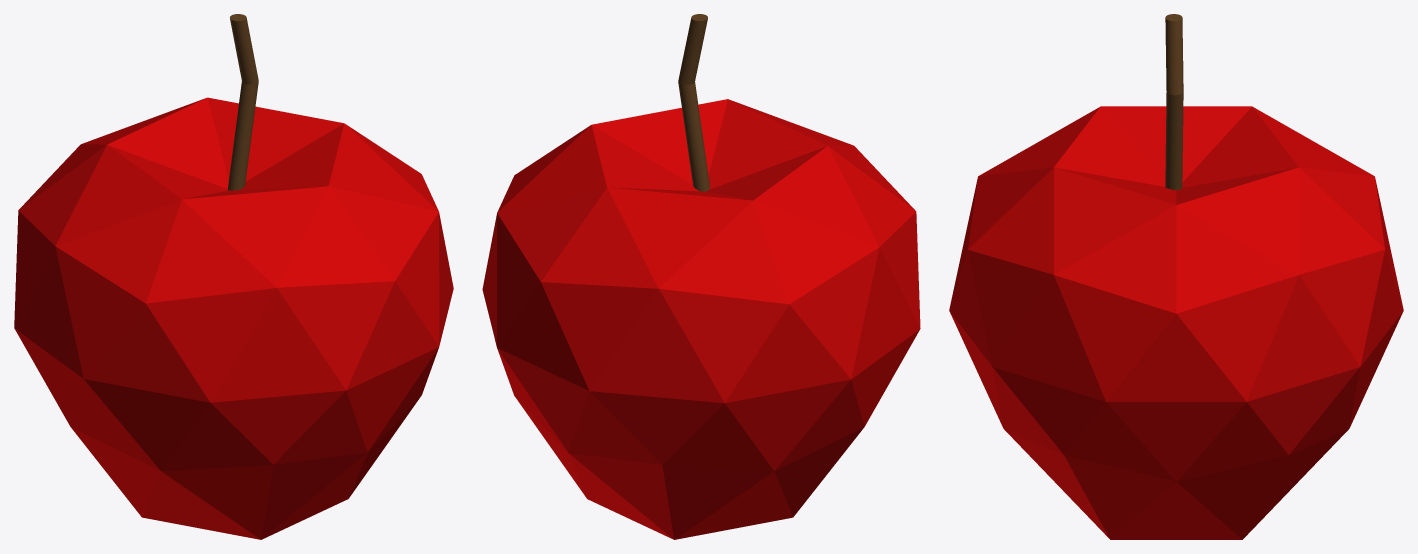
File: SM_Apple_01.fbx
The picture shows the model from 3 angles, left to right: view 1: azimuth 30°, elevation 25°; view 2: azimuth 150°, elevation 25°; view 3: azimuth 270°, elevation 25°; orthographic projection.
Parts seen in each view (by area): view 1: Icosphere; view 2: Icosphere; view 3: Icosphere.
Boxes of the visible parts, x1=… form: Icosphere: x1=14, y1=14, x2=453, y2=539; Icosphere: x1=482, y1=14, x2=920, y2=539; Icosphere: x1=949, y1=14, x2=1403, y2=539.
Bounding box in the file's own units: 0.1253 × 0.1534 × 0.1308.
